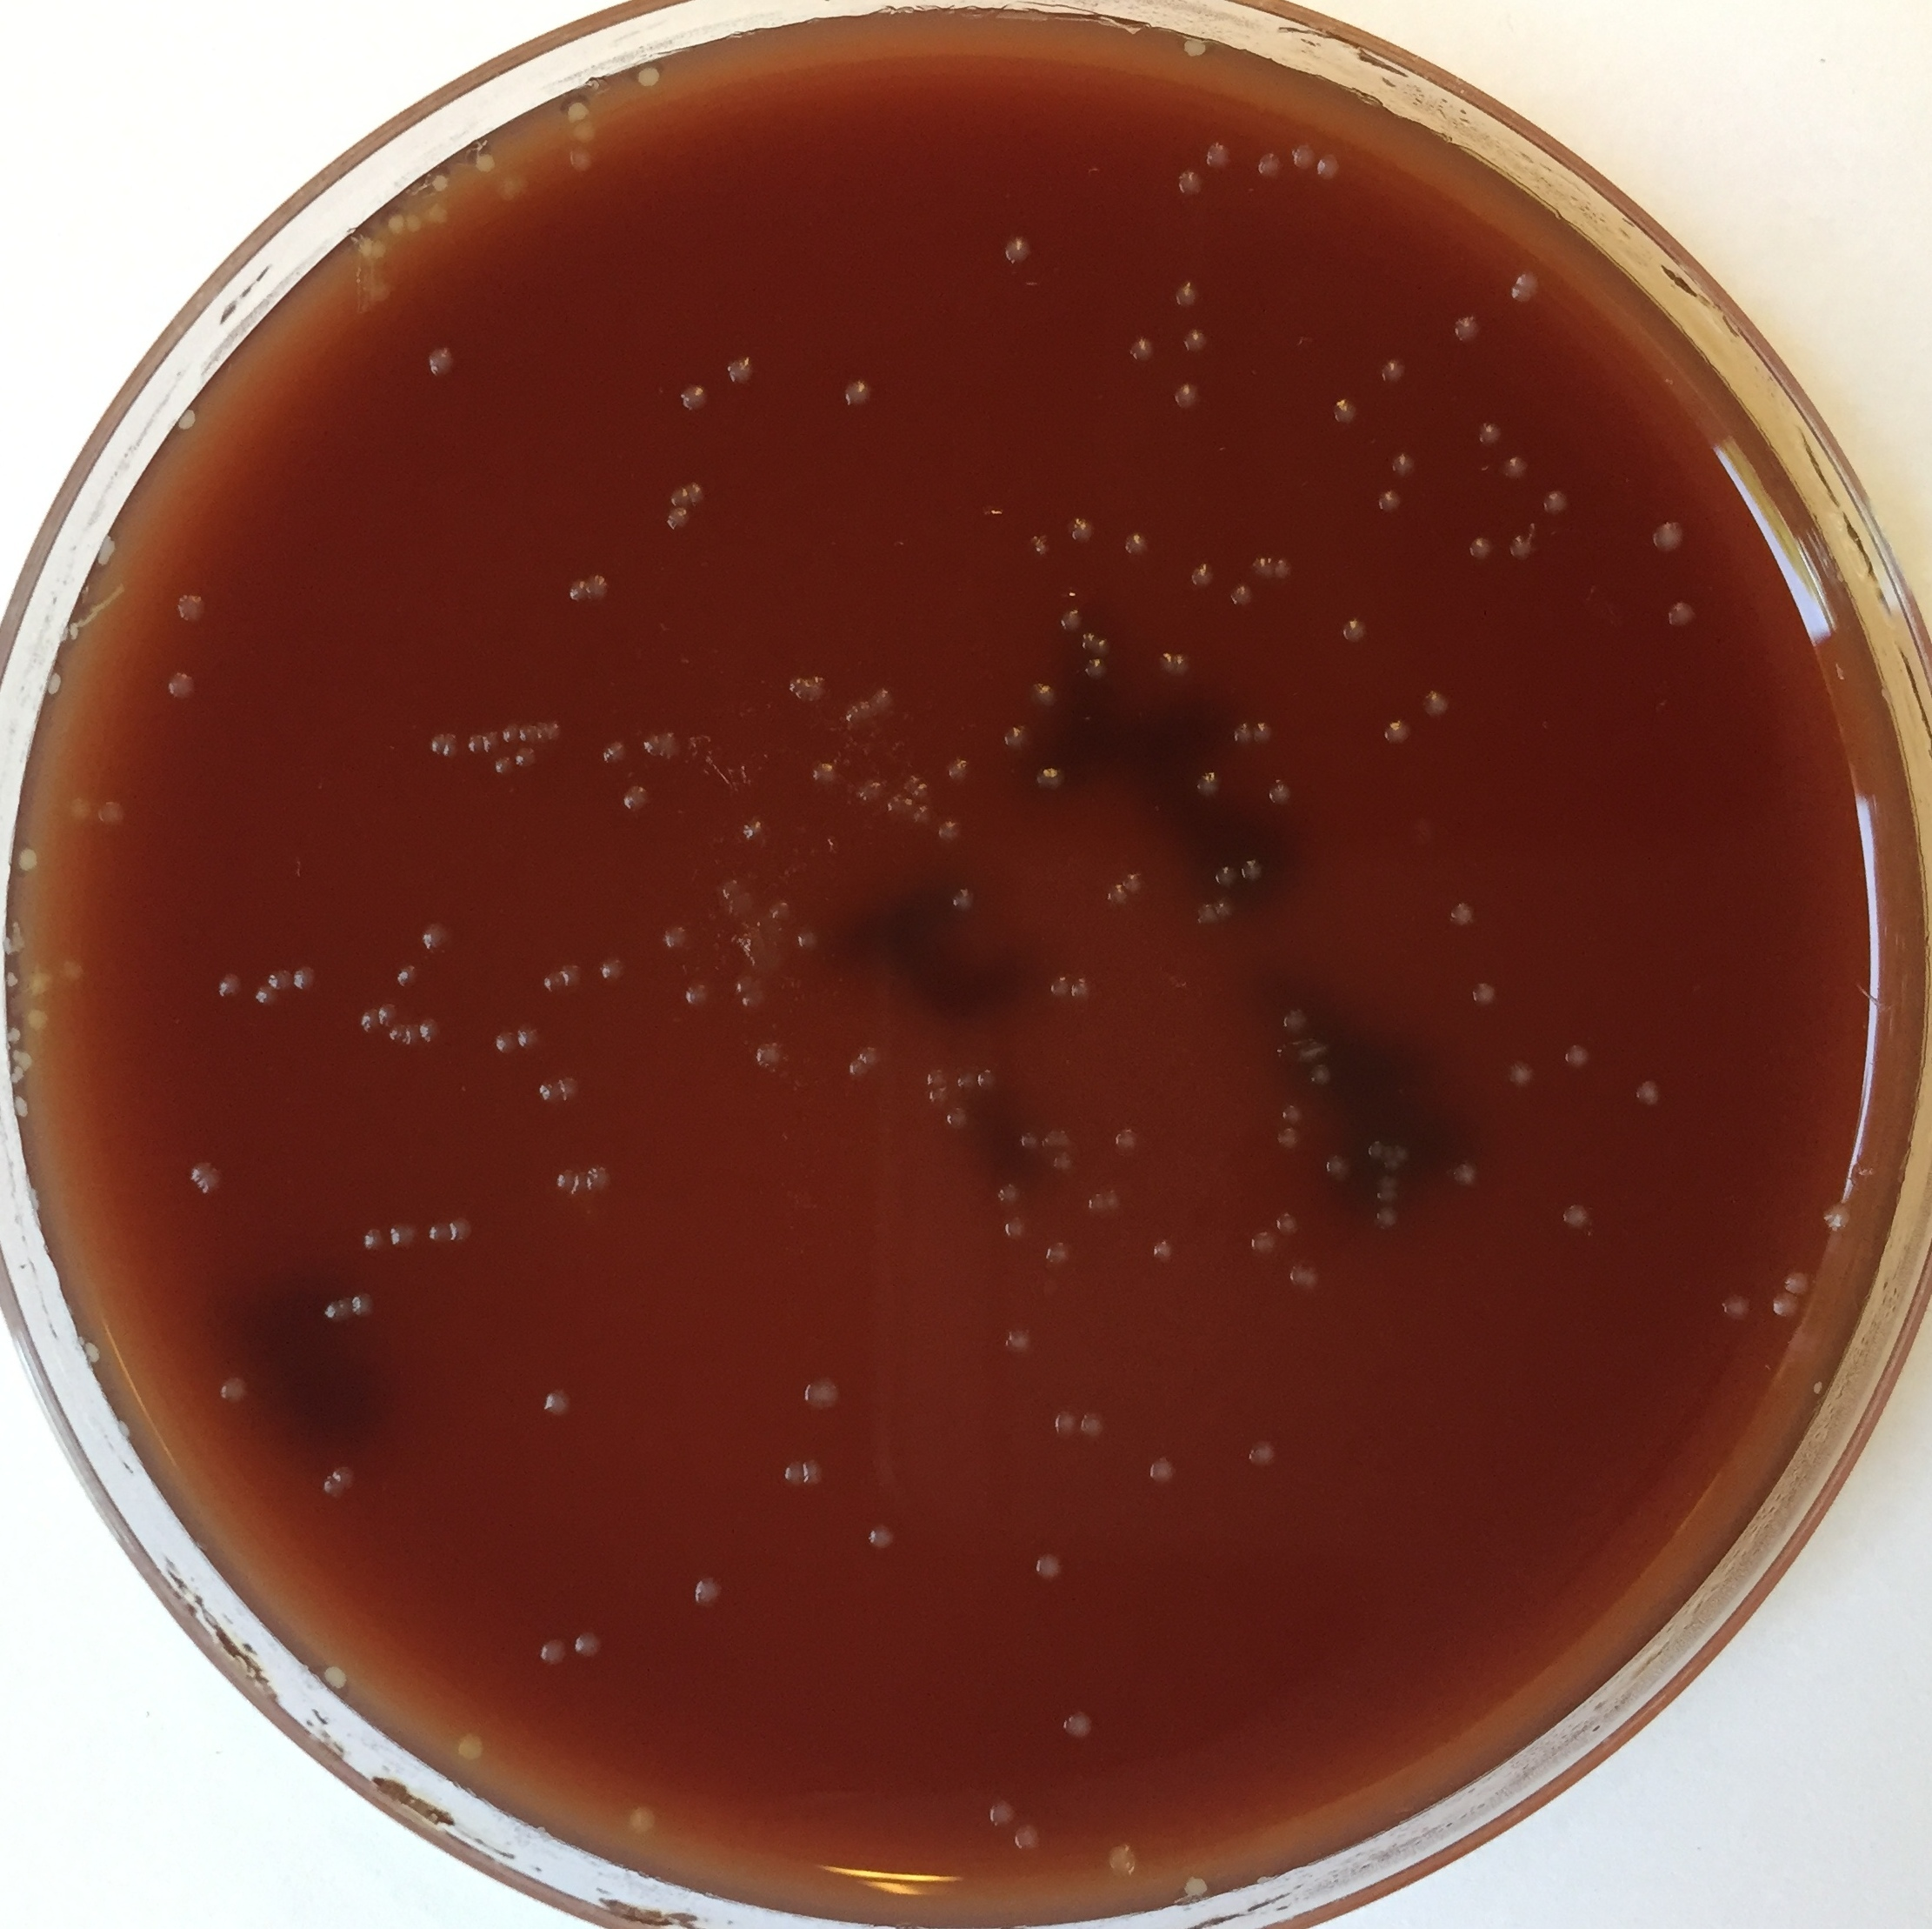sp23: (1167, 28, 1231, 78), (1017, 521, 1061, 564), (802, 1374, 848, 1415), (781, 673, 832, 708), (567, 148, 618, 182), (1506, 523, 1545, 564), (685, 1572, 729, 1607), (108, 1403, 147, 1440), (1144, 1456, 1187, 1489), (579, 572, 616, 609), (1649, 518, 1687, 555), (419, 920, 457, 956), (171, 590, 212, 624), (424, 201, 459, 238), (1102, 1842, 1139, 1878), (1033, 1547, 1068, 1585), (675, 382, 712, 417), (721, 876, 752, 917), (60, 957, 95, 993), (1060, 1705, 1095, 1740), (1201, 136, 1238, 170), (1717, 1291, 1755, 1323), (81, 1328, 108, 1374), (1821, 1201, 1854, 1237), (1420, 687, 1455, 721), (215, 1376, 253, 1408), (194, 1168, 231, 1199), (1026, 680, 1067, 708), (1386, 1145, 1420, 1178), (542, 1387, 576, 1420), (1508, 1058, 1542, 1092), (456, 1729, 491, 1761), (570, 1630, 606, 1662), (1328, 396, 1363, 427), (4, 1092, 39, 1123), (623, 1804, 657, 1835), (862, 1519, 895, 1551), (168, 669, 201, 701), (1468, 980, 1503, 1010), (1180, 323, 1210, 359), (387, 1222, 419, 1254), (1012, 1821, 1044, 1853), (1782, 1270, 1815, 1300), (1448, 897, 1478, 931), (254, 984, 288, 1014), (728, 352, 758, 385), (1065, 514, 1098, 544), (1381, 717, 1416, 745), (841, 378, 876, 406), (1031, 765, 1068, 791), (842, 700, 874, 730), (1245, 1438, 1277, 1468), (1001, 1325, 1033, 1355), (1374, 1175, 1404, 1207), (809, 758, 839, 790), (936, 816, 968, 846), (290, 964, 321, 995), (1667, 597, 1699, 627), (777, 1457, 805, 1491), (424, 346, 457, 374), (1503, 454, 1536, 482), (1379, 352, 1407, 385), (1453, 311, 1480, 346), (537, 1638, 567, 1668), (1563, 1203, 1593, 1233), (1192, 767, 1222, 797), (945, 756, 975, 786), (1390, 450, 1420, 480), (945, 1102, 975, 1132), (1446, 1162, 1478, 1191), (600, 738, 632, 767), (1174, 168, 1206, 196), (25, 964, 51, 998), (800, 1457, 826, 1491), (1169, 385, 1203, 412), (1051, 1406, 1079, 1436), (1079, 1411, 1109, 1440), (1044, 1238, 1074, 1267), (1249, 1229, 1279, 1258), (1561, 1042, 1591, 1070), (1280, 1007, 1310, 1035), (25, 1007, 55, 1035), (14, 843, 42, 873), (622, 783, 650, 813), (682, 479, 710, 509), (1003, 233, 1031, 263), (1291, 141, 1319, 171), (908, 802, 934, 834), (985, 1800, 1017, 1827), (1178, 1872, 1210, 1899), (540, 717, 563, 753), (1374, 1205, 1402, 1233), (373, 1000, 401, 1028), (64, 795, 92, 823), (1121, 530, 1150, 558), (1517, 270, 1545, 299), (634, 64, 662, 92), (1250, 721, 1277, 751), (1342, 617, 1369, 647), (1187, 562, 1217, 588), (1256, 152, 1286, 178), (682, 982, 712, 1009), (1037, 1129, 1077, 1148), (177, 403, 201, 435), (1279, 1102, 1310, 1127), (1169, 283, 1201, 307), (1264, 779, 1298, 802), (572, 120, 600, 147), (855, 777, 881, 806), (586, 1164, 615, 1191), (1275, 1212, 1303, 1238), (1001, 726, 1030, 753), (1118, 871, 1144, 899), (214, 970, 240, 998), (415, 1017, 441, 1046), (491, 1030, 519, 1056), (97, 798, 125, 825), (1227, 581, 1254, 609), (1273, 558, 1300, 586), (1377, 488, 1406, 514), (330, 1466, 360, 1491), (1231, 719, 1256, 749), (740, 818, 770, 843), (1211, 899, 1241, 924), (666, 482, 691, 512), (350, 1291, 376, 1318), (323, 1662, 350, 1689), (1635, 1081, 1662, 1108), (1312, 154, 1339, 180), (662, 924, 689, 950), (447, 1217, 475, 1242), (1321, 1155, 1349, 1180), (1770, 1291, 1798, 1316), (1083, 655, 1111, 680), (869, 687, 897, 712), (185, 1159, 214, 1184), (556, 1078, 585, 1102), (597, 957, 625, 982), (565, 578, 590, 606), (1540, 491, 1568, 516), (1132, 336, 1157, 364), (758, 1040, 786, 1065), (992, 1184, 1023, 1207), (1001, 1217, 1031, 1240), (1058, 609, 1088, 632), (660, 728, 680, 763), (46, 662, 62, 705), (1150, 1238, 1176, 1263), (768, 897, 795, 922), (795, 926, 821, 950), (1067, 979, 1091, 1005), (1102, 885, 1128, 910), (1211, 866, 1238, 890), (267, 968, 293, 993), (358, 1007, 383, 1033), (514, 744, 539, 770), (1476, 420, 1503, 445), (1113, 1129, 1139, 1154), (1053, 1150, 1079, 1175), (948, 889, 977, 912), (1238, 859, 1266, 881), (1250, 556, 1275, 581), (957, 1070, 982, 1095), (664, 509, 691, 532), (472, 152, 498, 175), (403, 212, 424, 240), (1171, 652, 1192, 680), (496, 178, 519, 203), (358, 1226, 383, 1249), (429, 1222, 454, 1245), (1309, 1063, 1333, 1086), (1151, 650, 1174, 675), (392, 964, 417, 987), (533, 1078, 558, 1101), (516, 724, 539, 749), (1468, 535, 1491, 560), (857, 1046, 879, 1070), (639, 733, 660, 760), (1508, 284, 1535, 306), (563, 102, 590, 124), (978, 1067, 1000, 1093), (369, 235, 389, 263), (1287, 1261, 1307, 1290), (429, 728, 447, 758), (321, 1475, 344, 1498), (1047, 977, 1070, 1000), (558, 966, 581, 989), (494, 754, 517, 777), (1196, 904, 1220, 926), (927, 1083, 952, 1104), (387, 212, 406, 238), (517, 1025, 537, 1051), (740, 993, 766, 1012), (846, 1060, 872, 1079), (1091, 638, 1114, 659), (500, 722, 521, 745), (431, 170, 452, 193), (334, 1295, 353, 1320), (1303, 1265, 1323, 1290), (1279, 1127, 1303, 1146), (404, 1021, 422, 1048), (1086, 1191, 1106, 1214), (323, 1297, 341, 1321), (480, 730, 498, 754), (555, 1169, 574, 1191), (387, 1021, 406, 1042), (441, 740, 461, 761), (927, 1069, 948, 1088), (915, 779, 932, 802), (1079, 632, 1098, 652), (466, 735, 486, 754), (1365, 1139, 1383, 1161), (540, 973, 562, 991), (736, 975, 759, 991), (572, 1171, 588, 1194), (357, 233, 369, 261), (1102, 1191, 1118, 1210), (1019, 1132, 1038, 1148), (906, 772, 918, 795), (890, 795, 902, 818), (902, 797, 915, 814)
